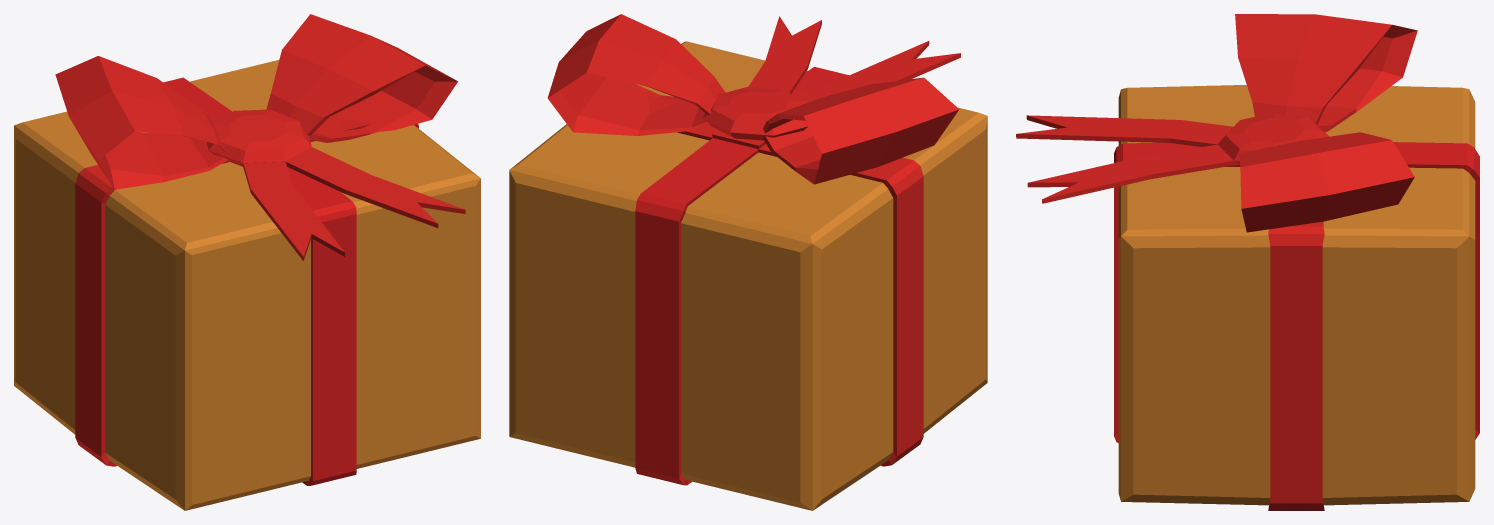
The model's file is present_brown.fbx.
3 views of the same model, side by side, from view 1: azimuth 30°, elevation 25°; view 2: azimuth 150°, elevation 25°; view 3: azimuth 270°, elevation 25° (orthographic). The views are drawn at different scales.
Parts seen in each view (by area): view 1: present_brown; view 2: present_brown; view 3: present_brown.
Part boxes in pixels (bbox=[...]): present_brown: bbox=[14, 14, 480, 510]; present_brown: bbox=[509, 14, 987, 510]; present_brown: bbox=[1016, 14, 1479, 510].
Bounding box in the file's own units: 59.86 × 56.88 × 65.2.
